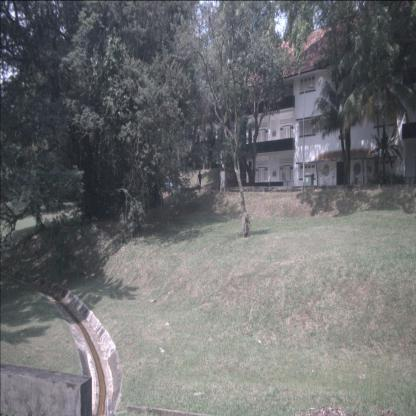human-pedestrian-adult: (197, 170, 203, 188)
